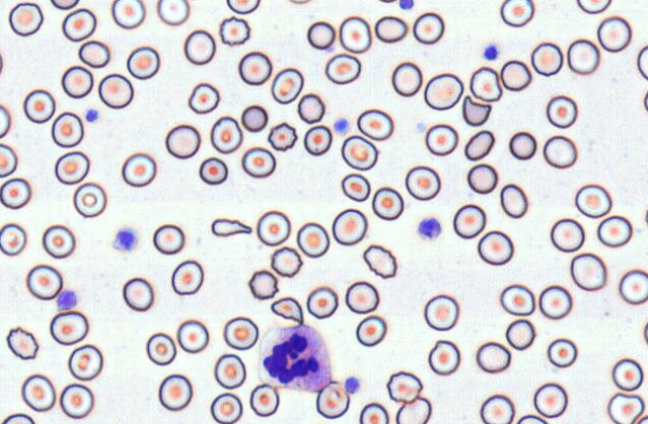GRAN: (259, 323, 334, 393)
PLT: (415, 216, 444, 243), (112, 228, 139, 252), (56, 288, 77, 312), (482, 41, 500, 62), (344, 376, 361, 395), (332, 118, 349, 136), (397, 0, 416, 11), (85, 108, 99, 122)
RBC: (423, 72, 463, 110), (570, 252, 607, 291), (49, 310, 88, 345), (67, 344, 103, 381), (331, 208, 367, 245), (21, 373, 56, 411), (574, 183, 612, 218), (315, 380, 349, 419), (423, 294, 459, 330), (26, 264, 62, 300), (341, 134, 377, 170), (158, 373, 192, 411), (404, 165, 440, 200), (477, 230, 513, 265), (597, 15, 631, 52), (338, 15, 371, 53), (59, 383, 94, 418), (98, 73, 133, 108), (121, 152, 156, 187), (256, 210, 290, 246), (533, 382, 567, 418), (566, 38, 600, 74), (223, 316, 258, 350), (362, 244, 397, 278), (452, 203, 486, 238), (8, 2, 43, 36), (61, 7, 96, 41), (538, 284, 572, 319), (165, 124, 200, 158), (542, 134, 577, 168), (72, 182, 106, 217), (296, 221, 329, 257), (210, 116, 242, 153), (271, 67, 303, 104), (356, 108, 393, 140), (126, 45, 160, 79), (550, 218, 584, 252), (238, 51, 272, 85), (54, 151, 89, 184), (530, 41, 563, 76), (500, 283, 535, 316), (386, 371, 422, 403), (214, 353, 246, 389), (475, 341, 511, 373), (428, 339, 460, 375), (596, 215, 632, 247), (171, 259, 203, 295), (51, 111, 83, 147), (607, 392, 644, 423), (324, 53, 361, 84), (176, 319, 209, 353), (345, 280, 379, 313), (42, 224, 75, 258), (183, 29, 215, 64), (23, 88, 55, 123), (241, 146, 275, 178), (371, 186, 403, 220), (424, 123, 458, 155), (391, 61, 422, 96), (6, 326, 38, 359), (61, 65, 93, 98), (306, 286, 338, 319), (611, 358, 643, 391), (412, 11, 444, 44), (122, 277, 153, 311), (187, 82, 219, 114), (546, 95, 577, 128), (249, 383, 279, 417), (618, 269, 647, 304), (479, 394, 514, 423), (270, 246, 302, 277), (0, 177, 31, 209), (210, 392, 242, 423), (500, 59, 531, 91), (152, 223, 184, 254), (146, 332, 176, 365), (111, 0, 145, 29), (499, 183, 527, 218), (395, 396, 431, 423), (355, 315, 386, 346), (466, 163, 497, 194), (505, 318, 535, 350), (218, 15, 250, 45), (464, 129, 494, 160), (78, 39, 110, 68), (374, 15, 407, 43), (500, 0, 534, 27), (248, 269, 278, 299), (547, 337, 577, 367), (303, 124, 332, 155), (340, 172, 370, 201), (267, 122, 297, 151), (297, 92, 325, 123), (0, 222, 26, 255), (199, 156, 228, 185), (306, 20, 335, 49), (156, 0, 189, 25), (508, 131, 536, 160), (241, 104, 268, 132), (359, 402, 389, 423), (0, 143, 17, 177), (576, 0, 611, 14), (226, 0, 260, 14), (636, 45, 647, 79), (0, 104, 10, 137), (1, 413, 34, 423), (516, 414, 548, 423), (50, 0, 79, 9), (643, 320, 648, 345), (643, 90, 648, 112), (636, 414, 647, 423), (288, 0, 311, 4), (0, 51, 3, 75), (645, 206, 648, 227), (377, 0, 397, 3)
Schistocyte: (469, 66, 504, 102), (462, 94, 493, 128), (270, 296, 305, 325), (212, 216, 251, 237)
